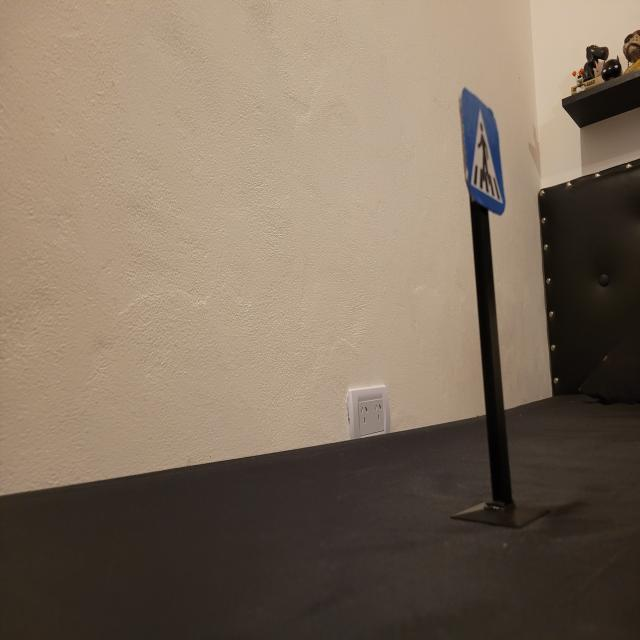crosswalk: (457, 85, 509, 217)
